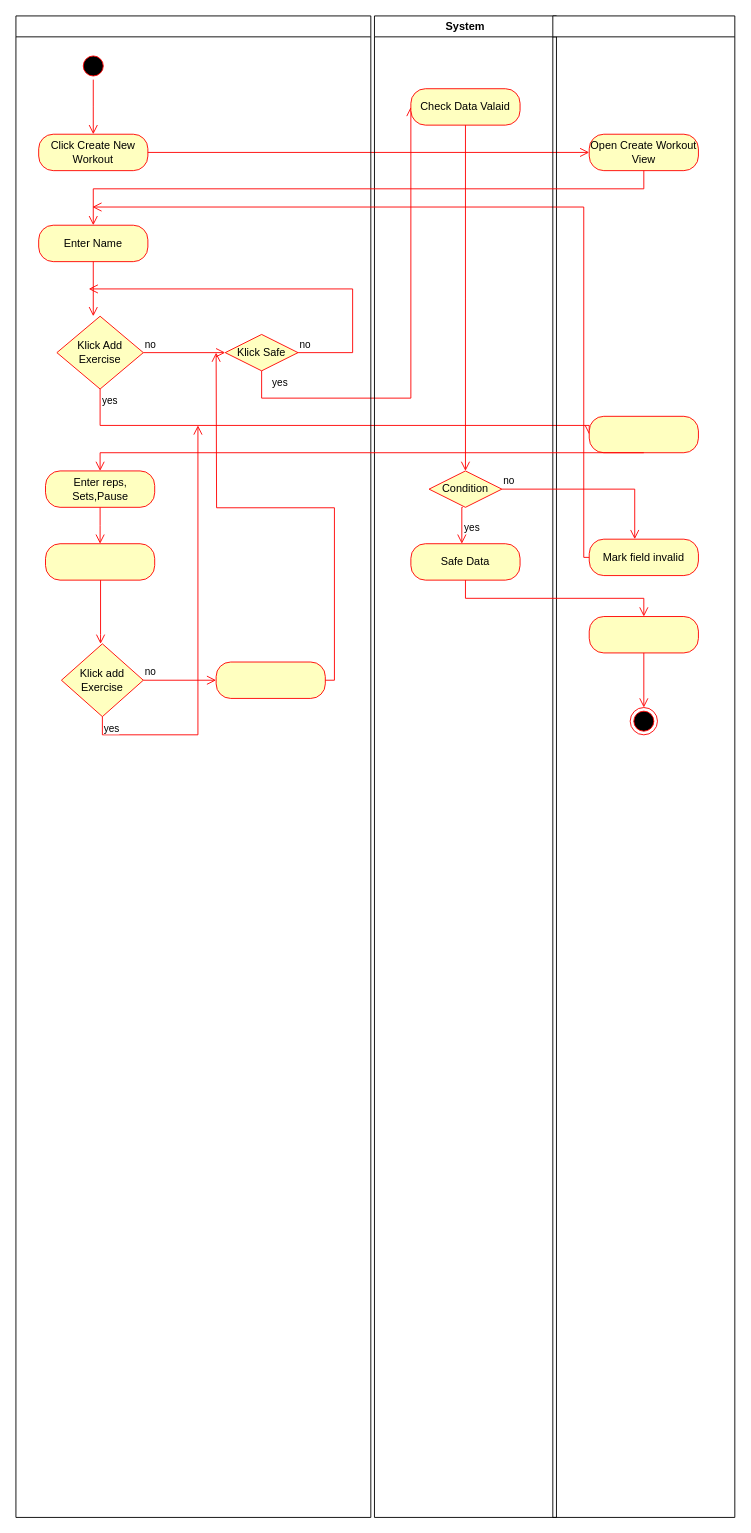
Image size: 751x1533. Some labels were removed from this diagram. Here are the shapes that lost their labels. From the top down, the box of each, then its label:
(588, 415, 698, 453): Open Exercise DataForm View
(45, 543, 155, 580): Klick ok
(588, 616, 698, 653): Show Workouts View
(215, 661, 325, 698): Enter Exercise Pause time
(15, 15, 371, 1517): User
(552, 15, 735, 1517): UI
